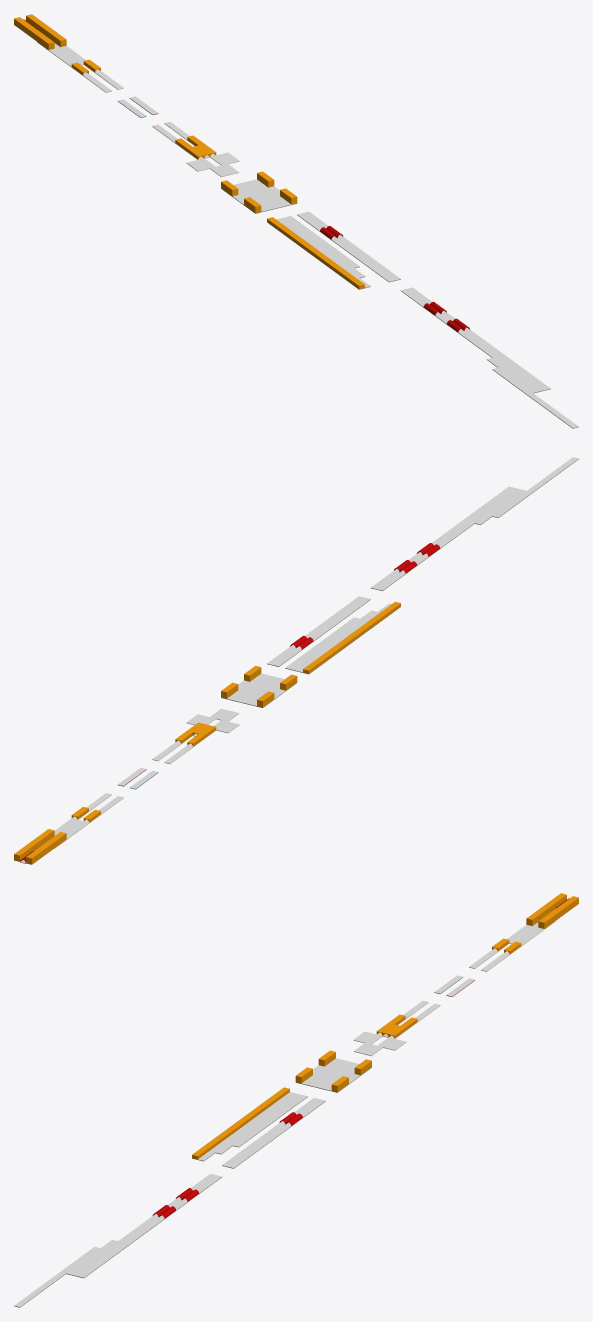
The model's file is Level23.FBX.
3 renders of one model, top to bottom at view 1: azimuth 30°, elevation 25°; view 2: azimuth 150°, elevation 25°; view 3: azimuth 330°, elevation 25°, orthographic.
Parts seen in each view (by area): view 1: basePlatform, Obsticles; view 2: basePlatform, Obsticles; view 3: basePlatform, Obsticles.
Part boxes in pixels (<box>): basePlatform: <box>49,43,578,427</box>; Obsticles: <box>14,14,470,332</box>; basePlatform: <box>20,457,578,863</box>; Obsticles: <box>14,543,440,864</box>; basePlatform: <box>14,922,543,1306</box>; Obsticles: <box>152,893,578,1218</box>.
Size of the model in its own units: 26.27 by 4.14 by 600.
